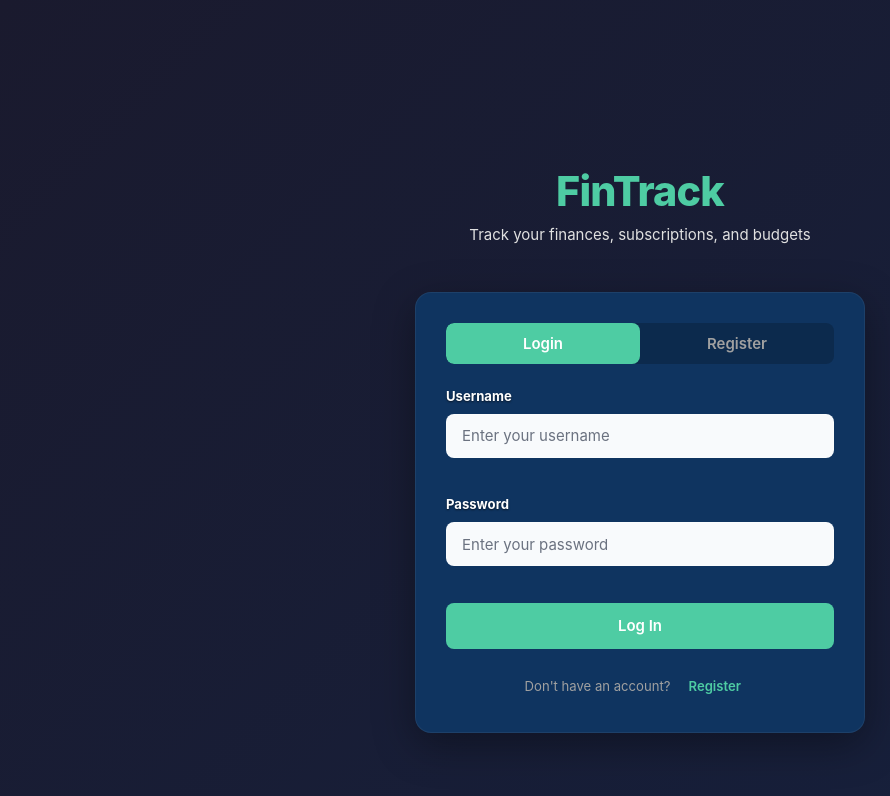
Scenario: Form submission › displays error message on failed login
The width and height of the screenshot is (890, 796).
In the field labelled "Username": (640, 436) [446, 414, 834, 458], type "alice"
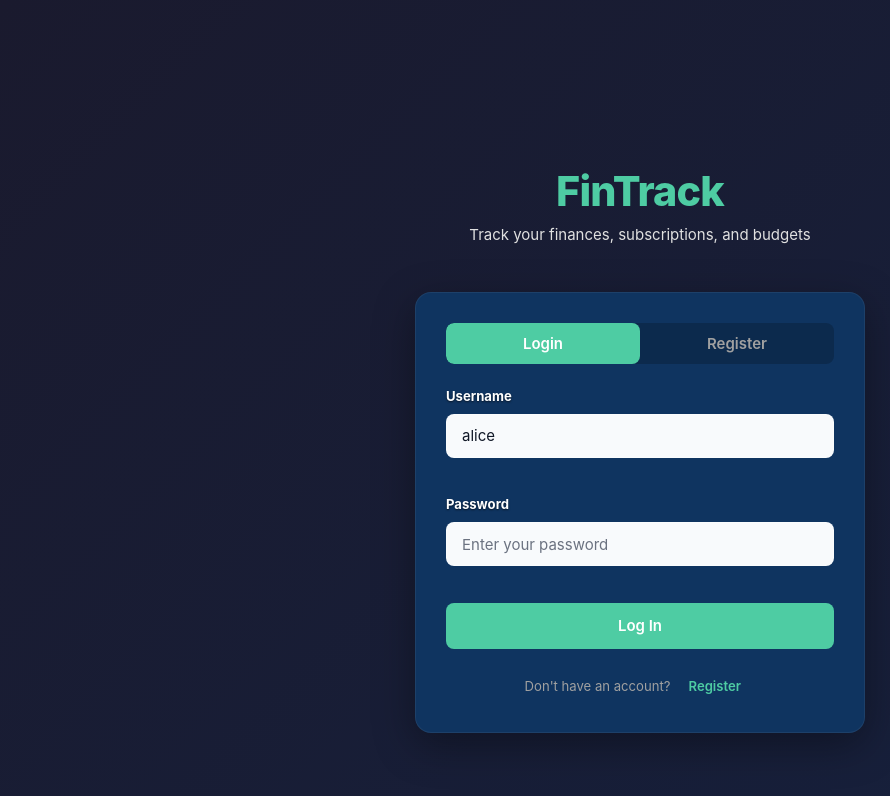
In the password field labelled "Password": (640, 544) [446, 522, 834, 566], type "wrongpass"
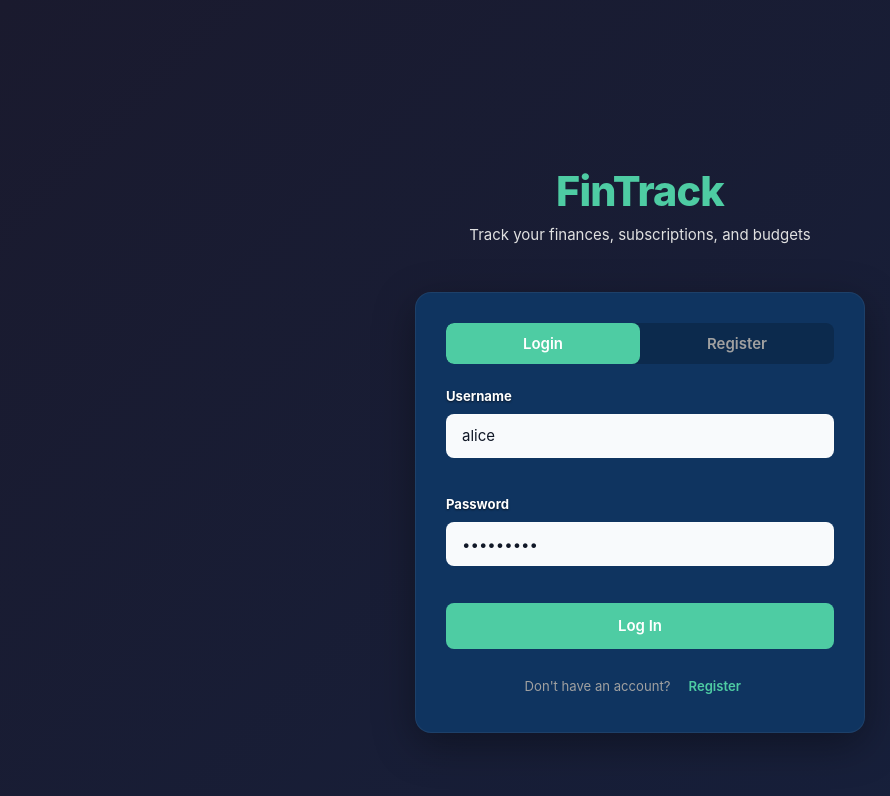
Submit the form from the button "Log In", box [446, 603, 834, 649]
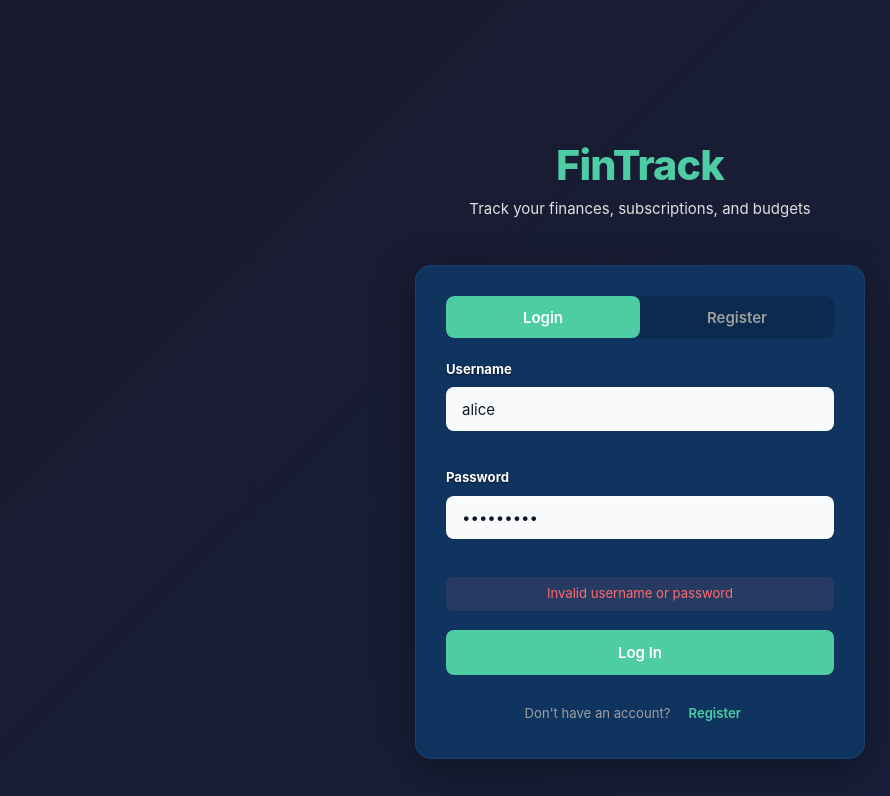
Expected: the text "Invalid username or password" is shown, [446, 577, 834, 611]
